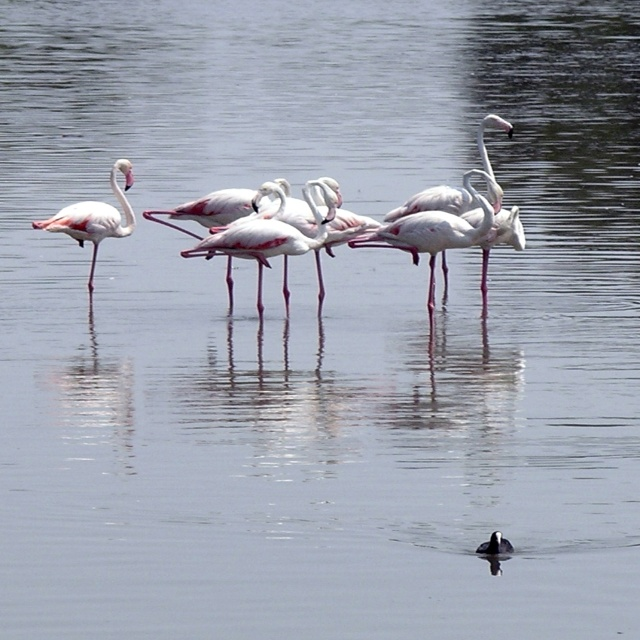Swan: (32, 115, 526, 332)
